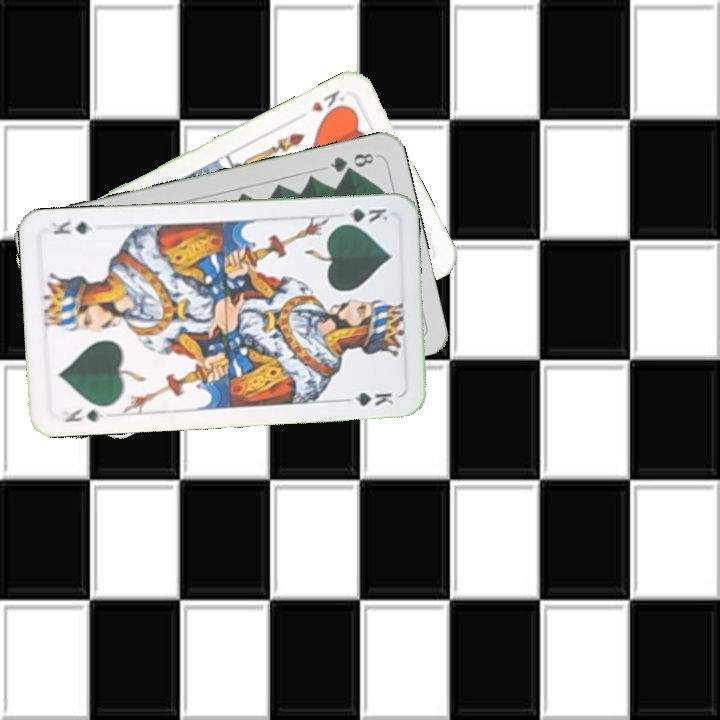G8: (325, 149, 380, 175)
GK: (333, 204, 390, 228), (61, 403, 106, 425)
HK: (306, 86, 349, 121)
